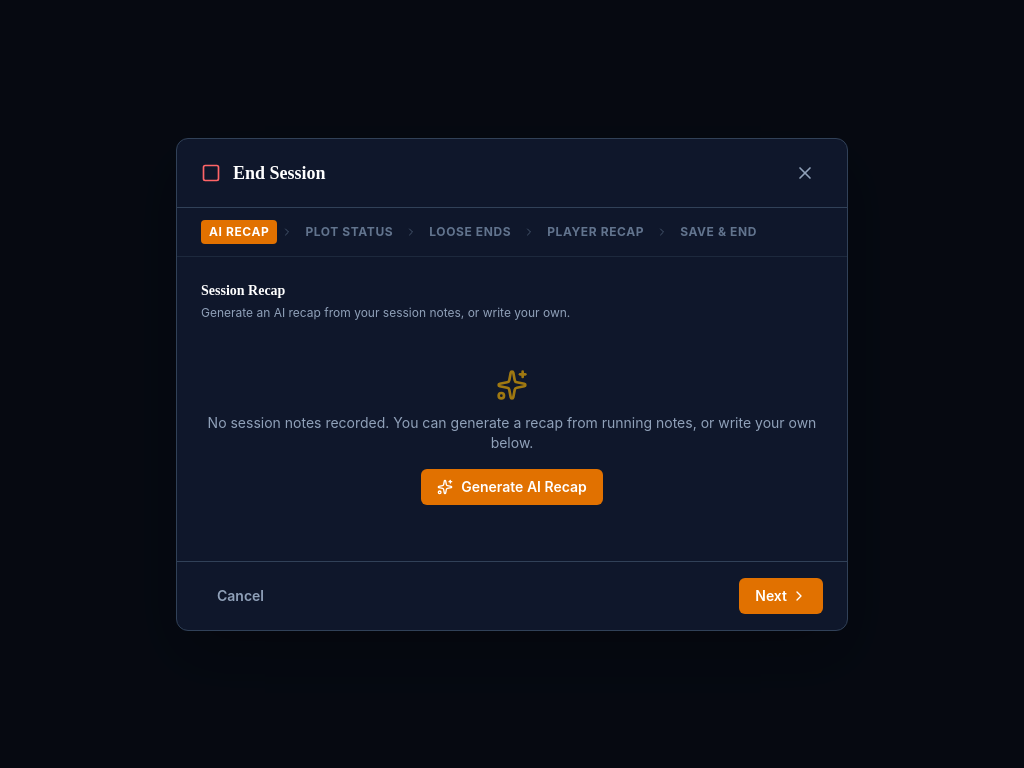
Test: SessionEndWizard — the carry-forward offer appears only when there is something to carry › offers the action when the session has an incomplete beat
Click the button "Loose Ends" at (470, 232), box 421,220 -> 519,244
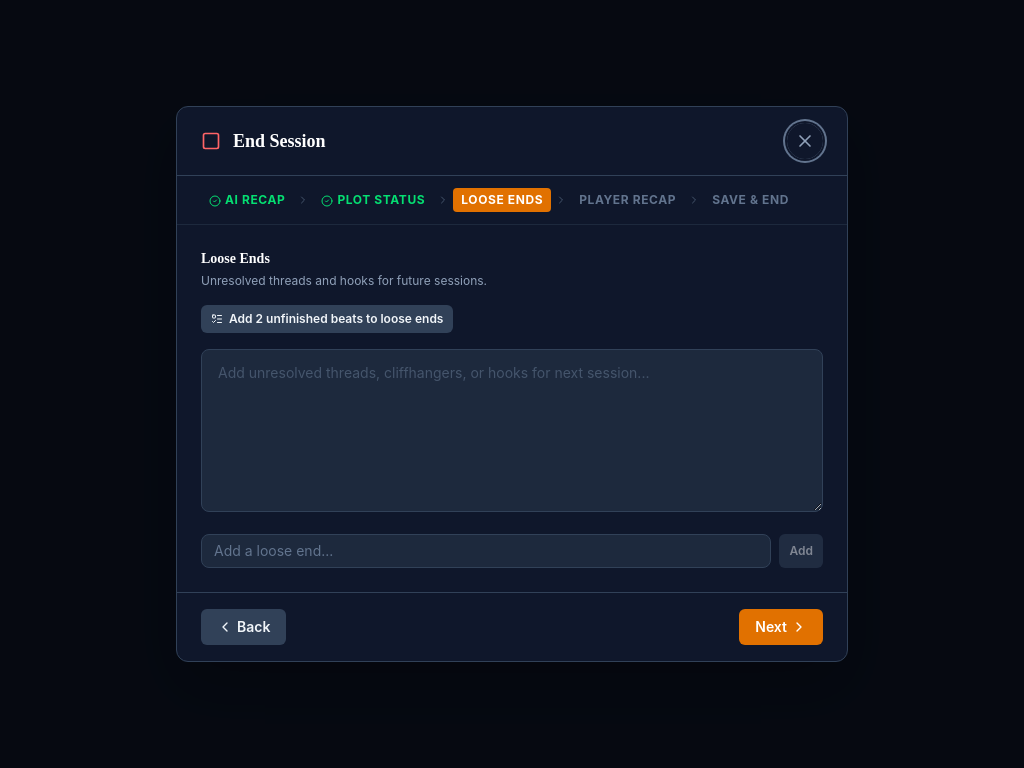
Expected: the button "Add 2 unfinished beats to loose ends" is shown, 201,305 -> 454,333
